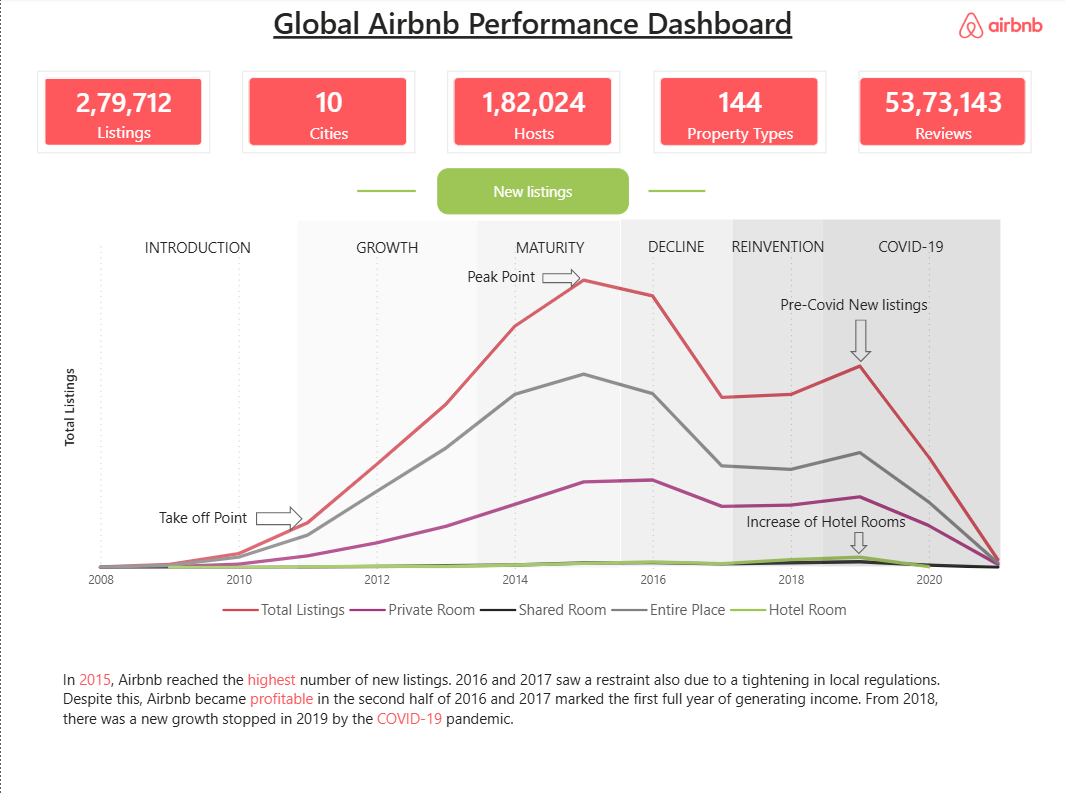

What the dashboard file says about the page in this screenshot:
{"tool":"powerbi","page":{"name":"Overview","canvas":[960,720],"ordinal":0},"visuals":[{"type":"textbox","box":[237.1,0,485.7,51.4],"z":0},{"type":"image","box":[841.4,0,118.6,51.4],"z":1000},{"type":"cardVisual","fields":{"Data":["CountNonNull(Listings.listing_id)"]},"box":[32.9,66.3,155.7,74.3],"z":2000},{"type":"cardVisual","fields":{"Data":["Count(Listings.property_type)"]},"box":[587.9,66.3,155.7,74.3],"z":3000},{"type":"cardVisual","fields":{"Data":["Count(Listings.host_id)"]},"box":[402.9,66.3,155.7,74.3],"z":4000},{"type":"cardVisual","fields":{"Data":["CountNonNull(Reviews.review_id)"]},"box":[772.9,66.3,155.7,74.3],"z":5000},{"type":"cardVisual","fields":{"Data":["Count(Listings.city)"]},"box":[217.1,66.9,155.7,74.3],"z":6000},{"type":"lineChart","fields":{"Category":["Listings.host_since.Variation.Date Hierarchy.Year"],"Y":["CountNonNull(Listings.listing_id)","Listings.Private Room","Listings.Shared Room","Listings.Entire Place","Listings.Hotel Room"]},"box":[51.4,211.4,864.3,360],"z":7000},{"type":"textbox","box":[393.6,154.3,172.9,41.4],"z":8000},{"type":"shape","box":[321.4,150,52.9,50],"z":9000},{"type":"shape","box":[583.6,150,51.5,50],"z":10000},{"type":"textbox","box":[51.1,601.1,801.1,70],"z":11000},{"type":"shape","box":[87,201.3,180.5,315.6],"z":12000},{"type":"shape","box":[267.5,201.3,162.3,313],"z":13000},{"type":"shape","box":[429.9,201.3,128.6,313],"z":14000},{"type":"shape","box":[558.5,201.1,102.1,312.8],"z":15000},{"type":"shape","box":[660.6,201.1,79.8,312.8],"z":16000},{"type":"shape","box":[740.4,201.1,160.6,312.8],"z":17000},{"type":"textbox","box":[118.2,211.7,118.2,28.6],"z":18000},{"type":"textbox","box":[310.4,211.7,76.6,28.6],"z":19000},{"type":"textbox","box":[450.6,211.7,88.3,29.9],"z":20000},{"type":"textbox","box":[574,210.4,70.1,29.9],"z":21000},{"type":"textbox","box":[649.4,210.4,102.6,33.8],"z":22000},{"type":"textbox","box":[412.1,237.9,76.8,30],"z":23000},{"type":"shape","box":[487.9,244.2,34.7,17.9],"z":24000},{"type":"textbox","box":[137.4,455.6,92.4,29.8],"z":25000},{"type":"shape","box":[229.8,459.1,42.1,23.4],"z":26000},{"type":"textbox","box":[773.1,210.8,94.6,27.7],"z":27000},{"type":"shape","box":[765.4,290.8,20,38.5],"z":28000},{"type":"textbox","box":[696.2,262.5,145,28.8],"z":29000},{"type":"textbox","box":[663.6,459.1,160,29.1],"z":30000},{"type":"shape","box":[765,482.9,16.4,20],"z":31000}]}

Visuals, with their boxes in screenshot pixels (x1, y1, x2, y2), scaled from the page's 960x720 canvas onto the 1065x795 screenshot:
textbox: 263/0/802/57
image: 933/0/1064/57
cardVisual - CountNonNull(Listings.listing_id): 36/73/209/155
cardVisual - Count(Listings.property_type): 652/73/825/155
cardVisual - Count(Listings.host_id): 447/73/620/155
cardVisual - CountNonNull(Reviews.review_id): 857/73/1030/155
cardVisual - Count(Listings.city): 241/74/414/156
lineChart - Listings.host_since.Variation.Date Hierarchy.Year x CountNonNull(Listings.listing_id): 57/233/1016/631
textbox: 437/170/628/216
shape: 357/166/415/221
shape: 647/166/705/221
textbox: 57/664/945/741
shape: 97/222/297/571
shape: 297/222/477/568
shape: 477/222/620/568
shape: 620/222/733/567
shape: 733/222/821/567
shape: 821/222/1000/567
textbox: 131/234/262/265
textbox: 344/234/429/265
textbox: 500/234/598/267
textbox: 637/232/715/265
textbox: 720/232/834/270
textbox: 457/263/542/296
shape: 541/270/580/289
textbox: 152/503/255/536
shape: 255/507/302/533
textbox: 858/233/963/263
shape: 849/321/871/364
textbox: 772/290/933/322
textbox: 736/507/914/539
shape: 849/533/867/555
